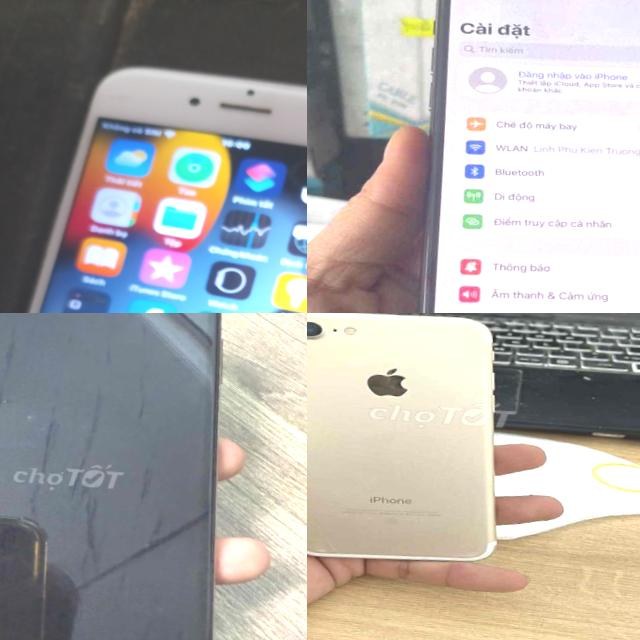gen_6: (0, 43, 307, 313)
gen_7_8: (307, 313, 521, 568)
gen_x_xs: (0, 313, 262, 640), (396, 0, 640, 313)
scratch: (314, 534, 338, 552)
screen_defect: (273, 132, 307, 211)
